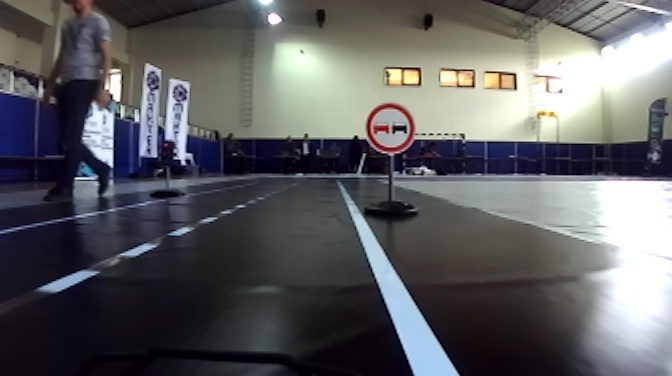sollama_yasak: (364, 102, 415, 154)
